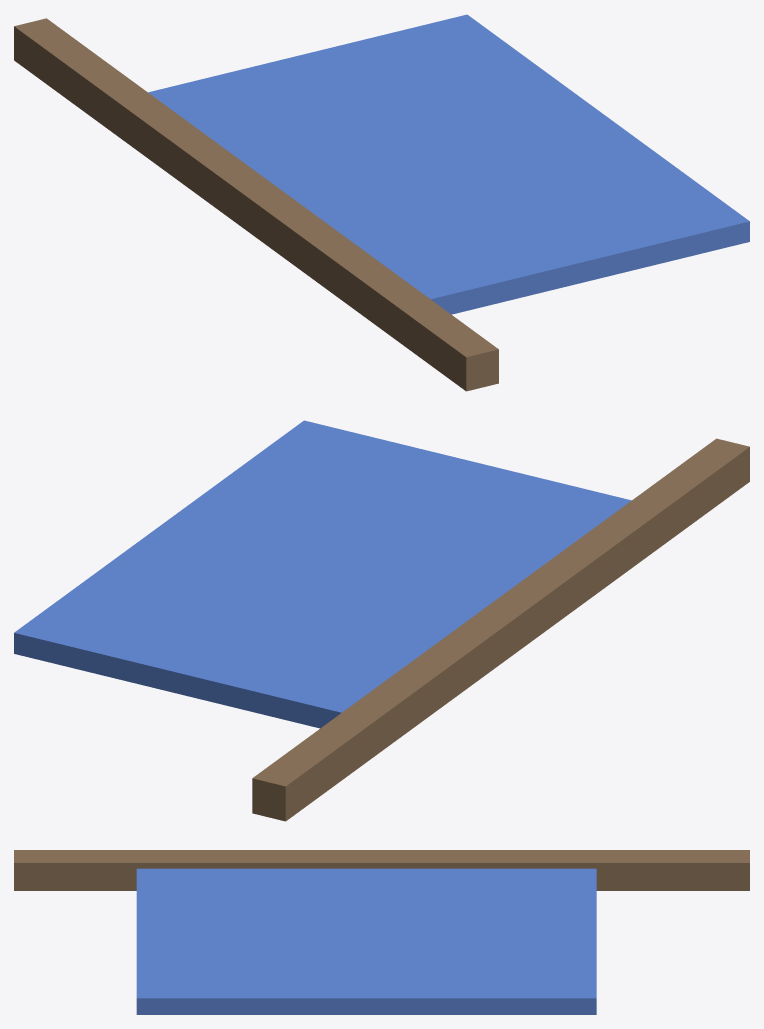
Rendered from shop_banner.glb.
The picture shows the model from 3 angles, top to bottom: view 1: azimuth 30°, elevation 25°; view 2: azimuth 150°, elevation 25°; view 3: azimuth 270°, elevation 25°; orthographic projection. The views are drawn at different scales.
Parts seen in each view (by area): view 1: cloth, pole; view 2: cloth, pole; view 3: cloth, pole.
Boxes of the visible parts, bbox=[...] form: cloth: bbox=[148, 14, 749, 314]; pole: bbox=[14, 18, 498, 391]; cloth: bbox=[14, 420, 631, 728]; pole: bbox=[252, 438, 749, 821]; cloth: bbox=[136, 868, 596, 1014]; pole: bbox=[14, 850, 749, 890].
Bounding box in the file's own units: 1.1 × 0.11 × 2.4.
